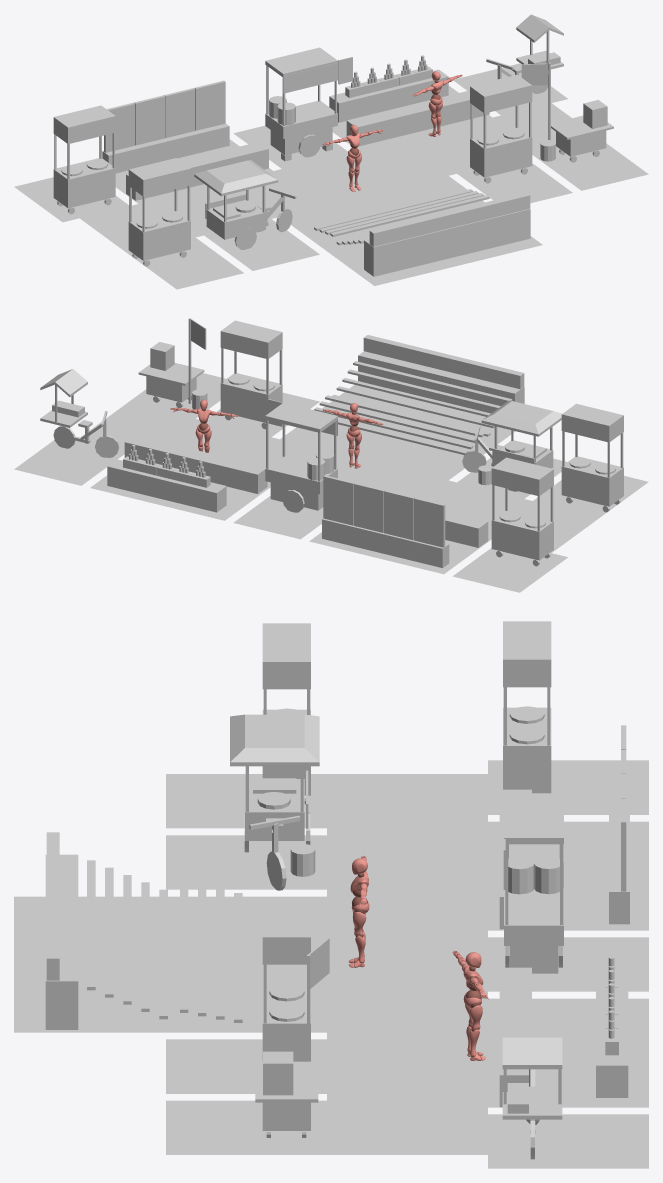
Rendered from scene demo blockout.fbx.
3 renders of one model, top to bottom at view 1: azimuth 30°, elevation 25°; view 2: azimuth 150°, elevation 25°; view 3: azimuth 270°, elevation 25°, orthographic. The views are drawn at different scales.
Parts seen in each view (by area): view 1: Plane, Plane.001, Cube.051, Cube.031, Cube.036, Cube.052, Cube.044, Plane.007, Plane.010, Plane.009, Cube.037, Cube.049 (+29 smaller); view 2: Plane, Plane.001, Cube.031, Cube.051, Cube.050, Cube.036, Cube.052, Cube.037, Cube.049, Cube.019, Plane.006, Cube.044 (+28 smaller); view 3: Plane, Plane.001, Cube.031, Plane.004, Plane.003, Plane.006, Plane.007, Plane.009, Cube.050, Plane.008, Plane.002, Plane.010 (+25 smaller).
Boxes of the visible parts, <box> form: Plane: <box>80,103,571,253</box>; Plane.001: <box>291,176,542,285</box>; Cube.051: <box>364,209,530,276</box>; Cube.031: <box>194,160,296,249</box>; Cube.036: <box>346,90,489,146</box>; Cube.052: <box>369,192,530,246</box>; Cube.044: <box>102,123,229,173</box>; Plane.007: <box>533,143,648,190</box>; Plane.010: <box>128,237,243,289</box>; Plane.009: <box>204,219,319,270</box>; Cube.037: <box>329,69,448,122</box>; Cube.049: <box>314,189,489,236</box>; Plane: <box>80,402,599,552</box>; Plane.001: <box>280,384,515,480</box>; Cube.031: <box>462,400,561,491</box>; Cube.051: <box>358,351,524,413</box>; Cube.050: <box>332,361,512,436</box>; Cube.036: <box>124,435,267,493</box>; Cube.052: <box>363,335,524,389</box>; Cube.037: <box>107,459,226,512</box>; Cube.049: <box>314,395,484,454</box>; Cube.019: <box>40,369,118,457</box>; Plane.006: <box>14,440,124,485</box>; Cube.044: <box>322,518,449,567</box>; Plane: <box>327,774,487,1154</box>; Plane.001: <box>14,896,326,1032</box>; Cube.031: <box>230,714,319,890</box>; Plane.004: <box>488,998,648,1107</box>; Plane.003: <box>488,821,648,930</box>; Plane.006: <box>488,1114,648,1168</box>; Plane.007: <box>166,1100,326,1154</box>; Plane.009: <box>166,835,326,889</box>; Cube.050: <box>87,860,167,1019</box>; Plane.008: <box>166,1039,326,1093</box>; Plane.002: <box>488,937,648,991</box>; Plane.010: <box>166,774,326,828</box>.
Size of the model in its own units: 15 by 2.67 by 9.86.
